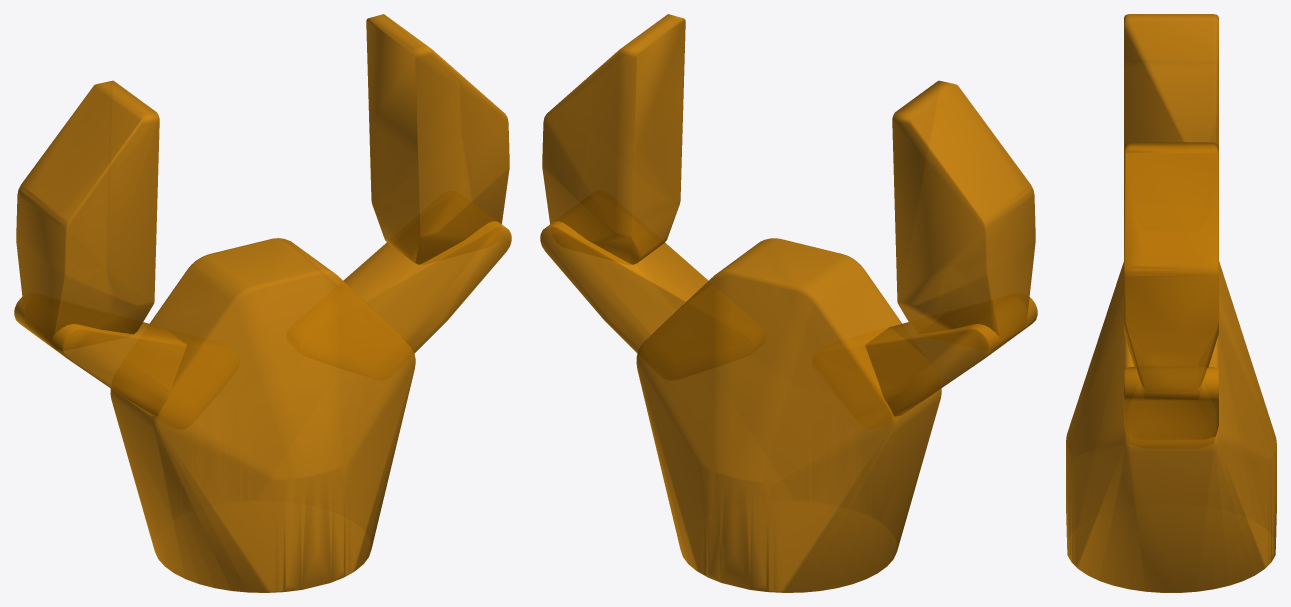
Rendered from opened_gripper.obj.
3 views of the same model, side by side, from view 1: azimuth 30°, elevation 25°; view 2: azimuth 150°, elevation 25°; view 3: azimuth 270°, elevation 25° (orthographic). The views are drawn at different scales.
Size of the model in its own units: 0.148 by 0.1517 by 0.062.
